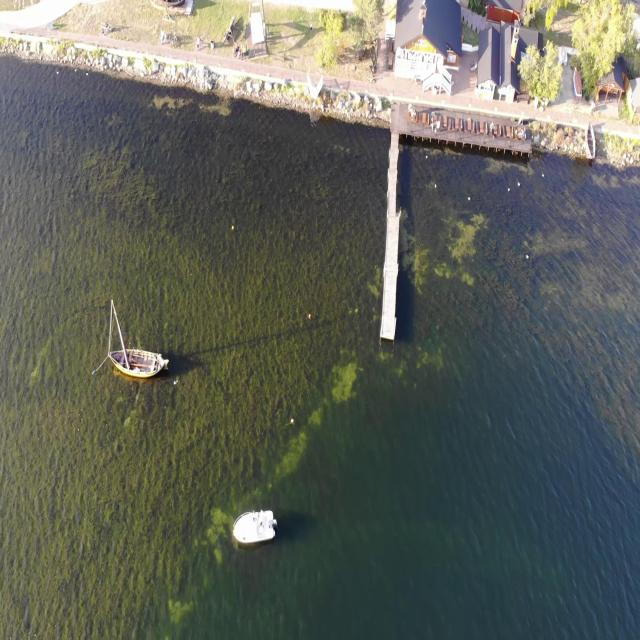boat: (231, 508, 278, 548)
bouy: (290, 416, 295, 426), (308, 312, 312, 322), (231, 224, 235, 231)
sailboat: (107, 297, 171, 385)
